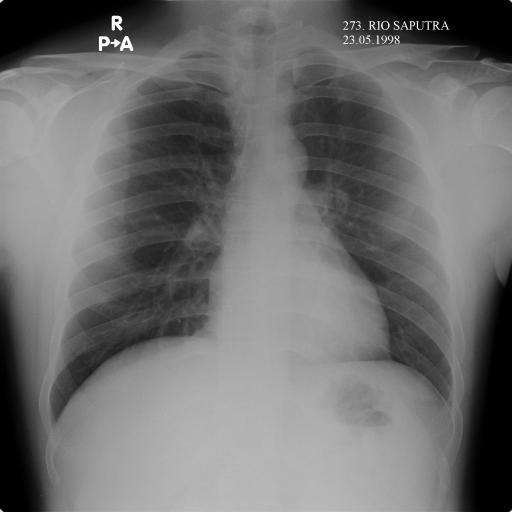normal: (38, 29, 462, 435)
